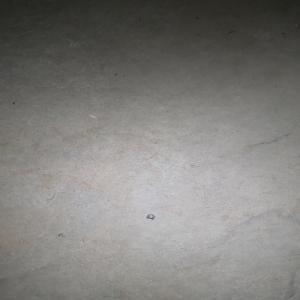Nut: (145, 214, 155, 220)
